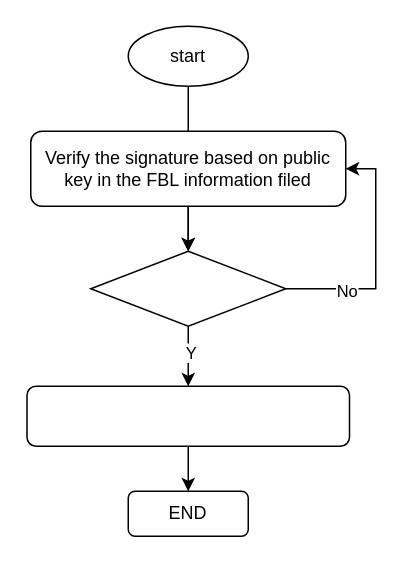
Image size: 414x563. Some labels were removed from this diagram. The centre of each missing label's shape, as x and y in pixels:
"Message Digest shall be stored" goes at [188,415].
"signature valid?" goes at [187,288].
